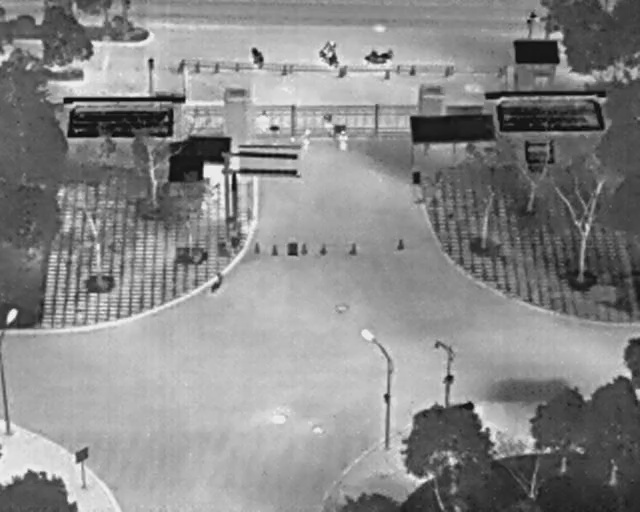Bicycle: (318, 40, 339, 66), (364, 50, 394, 66), (251, 46, 265, 68)
Person: (301, 128, 310, 154), (338, 130, 349, 151), (322, 118, 334, 135)
